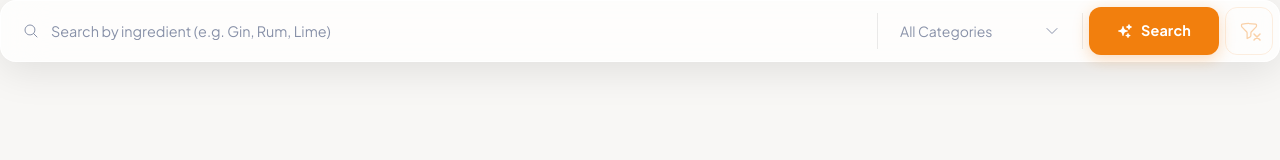
Test case: SearchForm › Clear button › clears the ingredient input when clicked
In the field with placeholder "Search by ingredient (e.g. Gin, Rum, Lime)": coordinates (439, 31) [7,7,871,55], type "Rum"
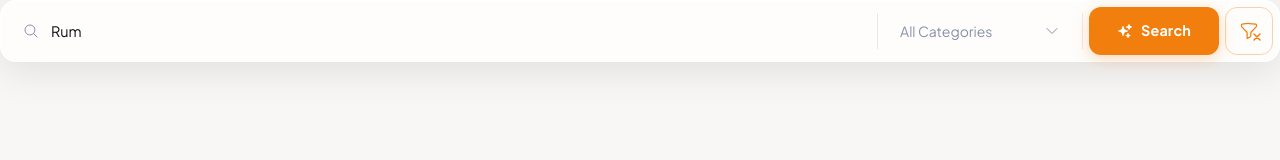
Click the button named "clear search filters": coordinates (1249, 31) [1225,7,1273,55]
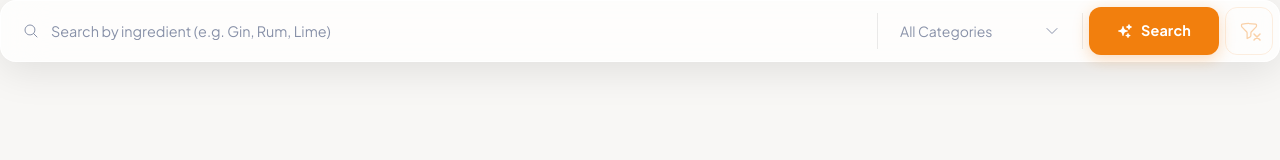
Result: the field with placeholder "Search by ingredient (e.g. Gin, Rum, Lime)" is empty at [7,7,871,55]
